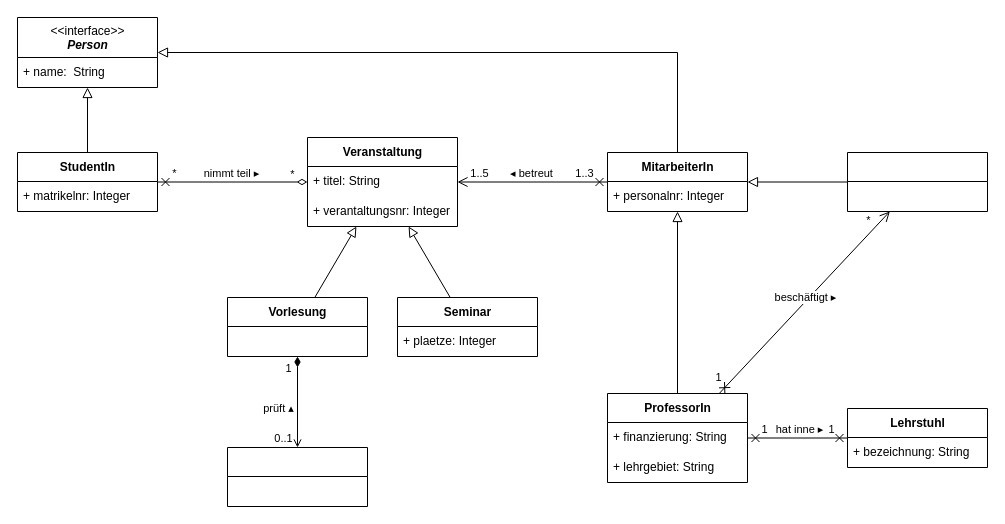
Image size: 1005x524. Some labels were removed from this diagram. Here are the shapes that lost their labels. From the top down, the centre of each, then its label:
At point 917,182: "AssistentIn".
At point 297,476: "Klausur".
